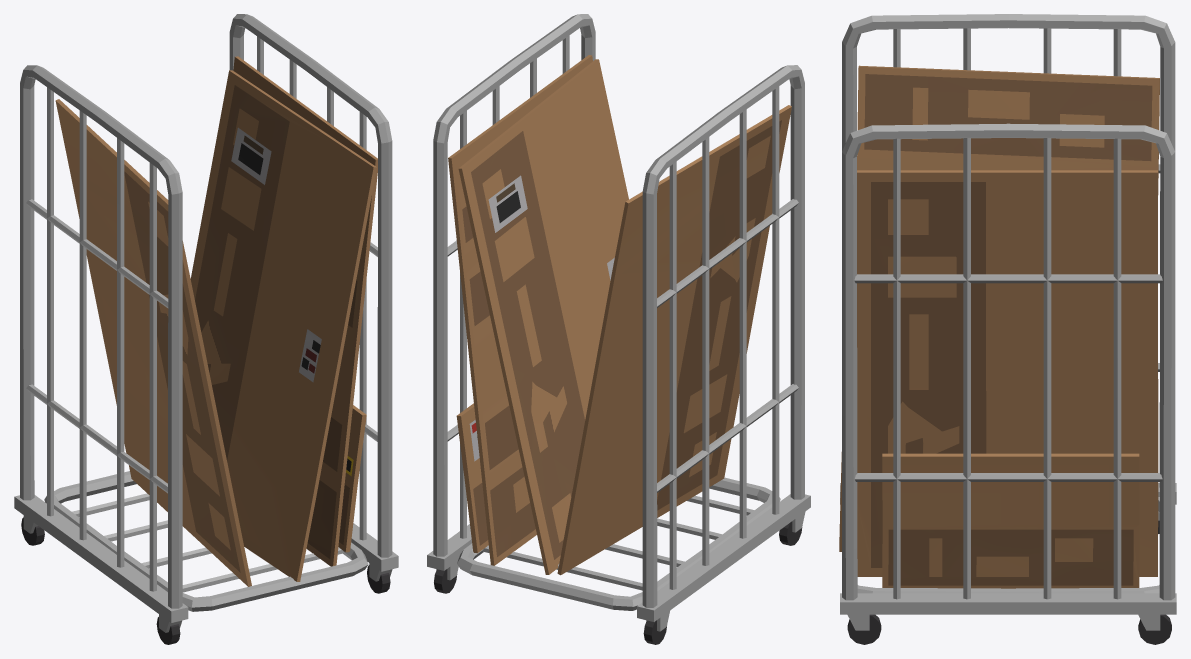
Rendered from SM_carton_box_tray.gltf.
3 views of the same model, side by side, from view 1: azimuth 30°, elevation 25°; view 2: azimuth 150°, elevation 25°; view 3: azimuth 270°, elevation 25° (orthographic). The views are drawn at different scales.
Parts seen in each view (by area): view 1: SM_carton_box_tray; view 2: SM_carton_box_tray; view 3: SM_carton_box_tray.
Boxes of the visible parts, bbox=[...] form: SM_carton_box_tray: bbox=[14, 14, 398, 644]; SM_carton_box_tray: bbox=[427, 14, 810, 644]; SM_carton_box_tray: bbox=[839, 14, 1176, 644].
Size of the model in its own units: 0.9301 by 1.89 by 1.11.
1 material, 1 textured.
